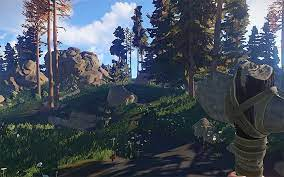tree: (183, 1, 199, 98), (211, 1, 225, 77), (35, 16, 47, 104), (54, 1, 61, 113), (49, 1, 55, 110)
